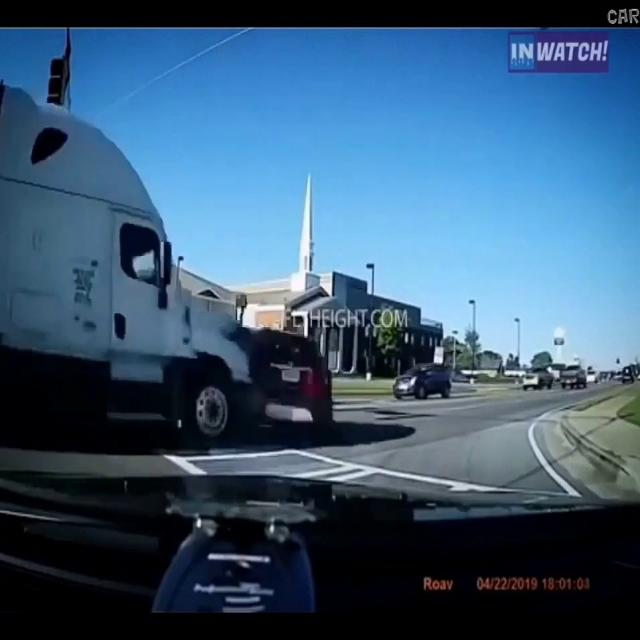accident: (1, 66, 337, 438)
